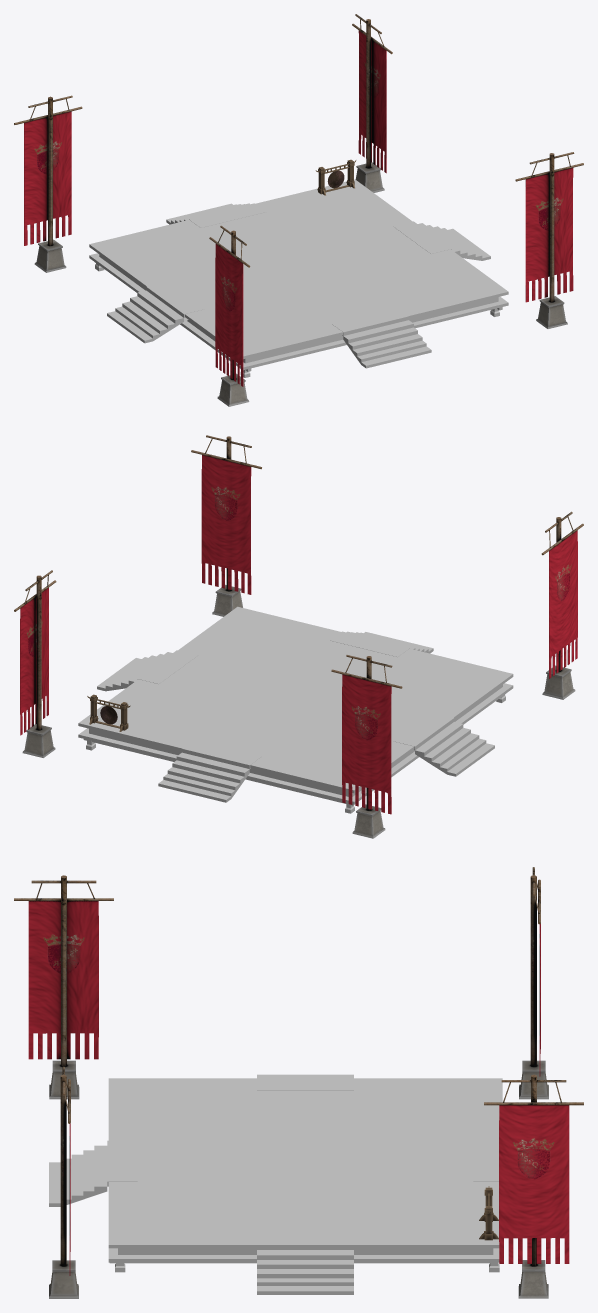
File: Fighitng_Stage.fbx
The picture shows the model from 3 angles, top to bottom: view 1: azimuth 30°, elevation 25°; view 2: azimuth 150°, elevation 25°; view 3: azimuth 270°, elevation 25°; orthographic projection. The views are drawn at different scales.
Parts seen in each view (by area): view 1: pCube42, pPlane1 (×4), pCube14, pCube15, pCube40 (×4), pCylinder1 (×3); view 2: pCube42, pPlane1 (×4), pCube14, pCube15, pCube40 (×4), pCylinder1; view 3: pCube42, pPlane1 (×2), pCube14, pCube15, pCylinder1 (×3), pCube40 (×4), pCube7.
Boxes of the visible parts, <box> form: pCube42: <box>89,179,508,370</box>; pPlane1 (×4): <box>24,30,573,386</box>; pCube14: <box>107,221,490,343</box>; pCube15: <box>166,203,431,368</box>; pCube40 (×4): <box>34,162,567,406</box>; pCylinder1 (×3): <box>48,19,554,302</box>; pCube42: <box>78,606,513,804</box>; pPlane1 (×4): <box>20,455,577,814</box>; pCube14: <box>97,650,494,776</box>; pCube15: <box>158,631,433,802</box>; pCube40 (×4): <box>22,584,575,838</box>; pCylinder1: <box>36,575,41,730</box>; pCube42: <box>108,1078,502,1262</box>; pPlane1 (×2): <box>28,901,569,1263</box>; pCube14: <box>257,1074,353,1294</box>; pCube15: <box>49,1140,498,1206</box>; pCylinder1 (×3): <box>60,875,536,1266</box>; pCube40 (×4): <box>49,1060,548,1298</box>; pCube7: <box>110,1262,491,1263</box>.
Bounding box in the file's own units: 36.27 × 15.14 × 36.15.
